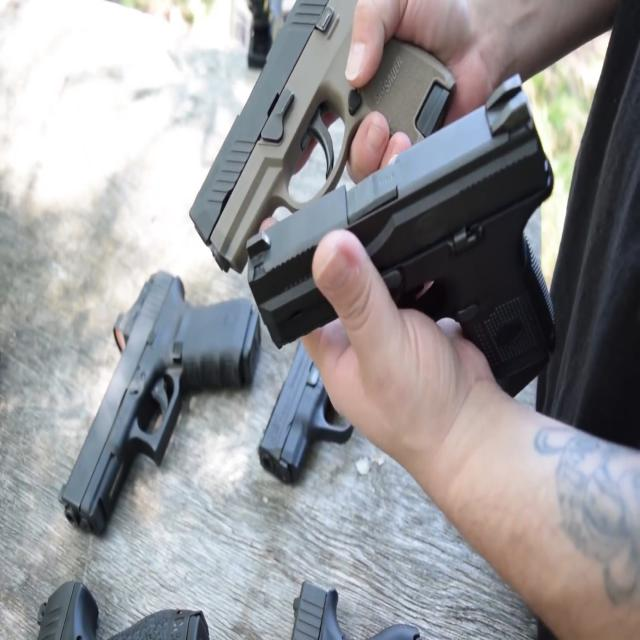handgun: (240, 82, 575, 423), (176, 0, 462, 291), (57, 268, 287, 550)
